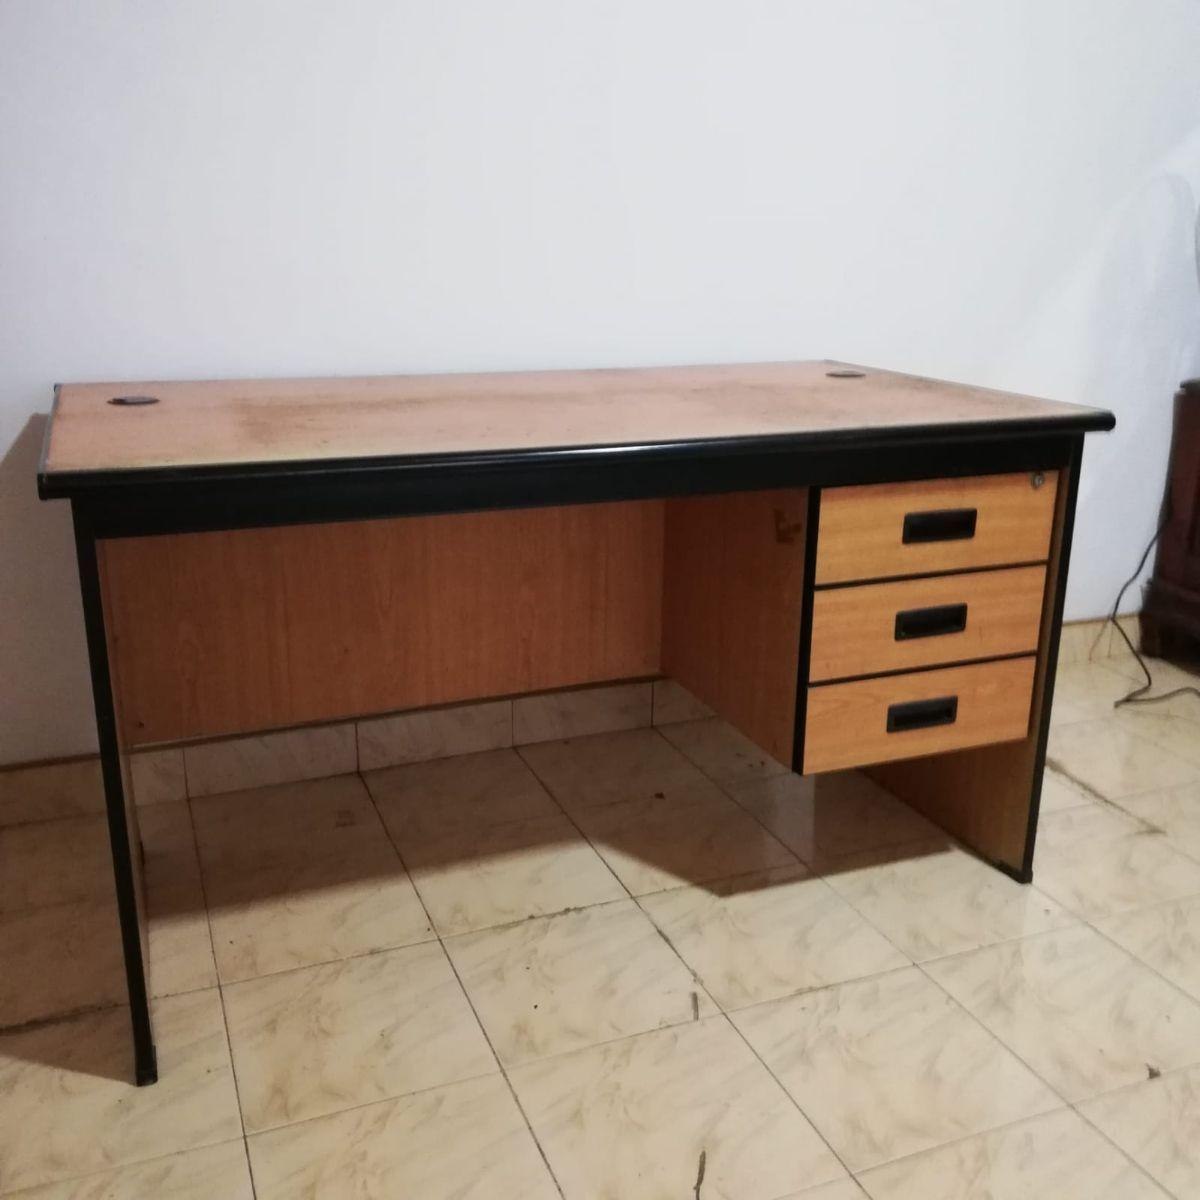Table: (24, 324, 1153, 1153)
